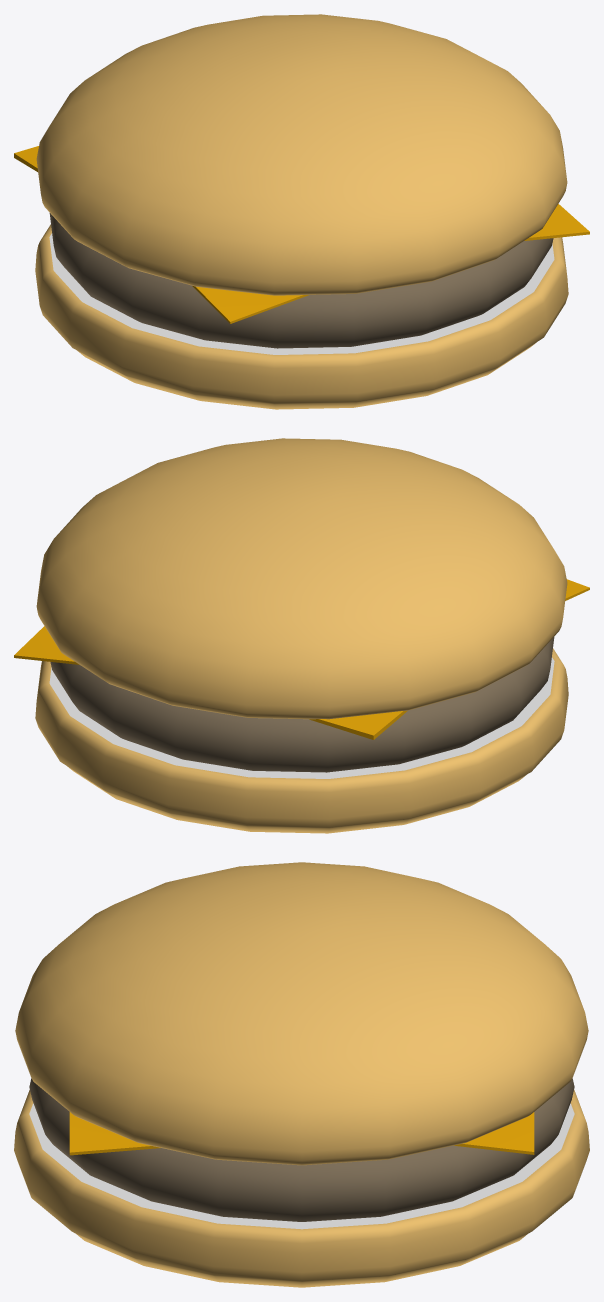
The model's file is Burger.fbx.
3 views of the same model, one above another, from view 1: azimuth 30°, elevation 25°; view 2: azimuth 150°, elevation 25°; view 3: azimuth 270°, elevation 25° (orthographic). The views are drawn at different scales.
Visible parts, largest first — view 1: Burger; view 2: Burger; view 3: Burger.
Boxes of the visible parts, left/top/right/bottom form: Burger: left=14, top=14, right=589, bottom=409; Burger: left=14, top=438, right=589, bottom=833; Burger: left=14, top=862, right=589, bottom=1287.
Size of the model in its own units: 3.09 by 1.54 by 3.09.
